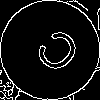C: (25, 25, 84, 83)
